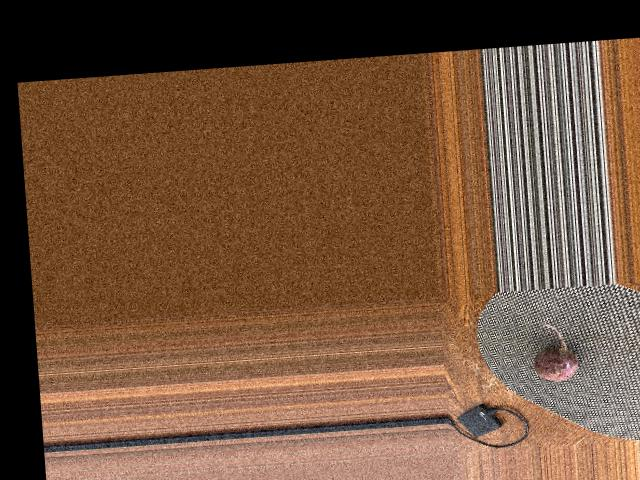beet: (530, 320, 579, 381)
